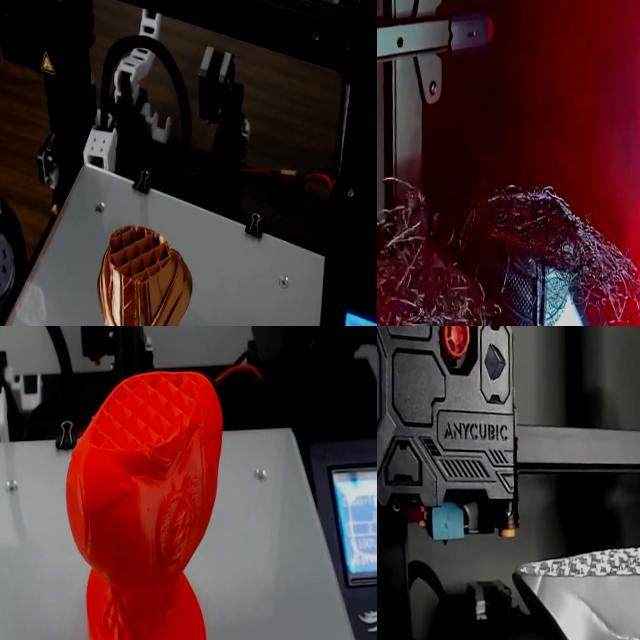spaghetti: (377, 185, 640, 326)
